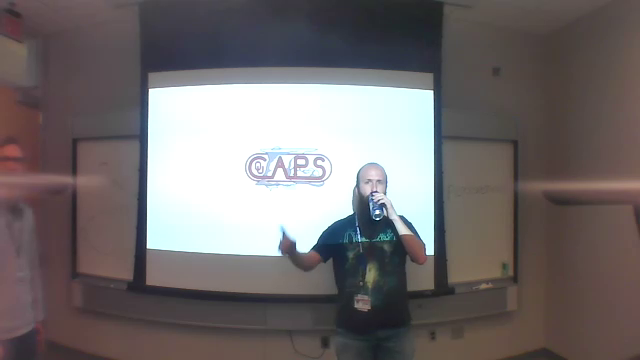up: (274, 222, 297, 256)
